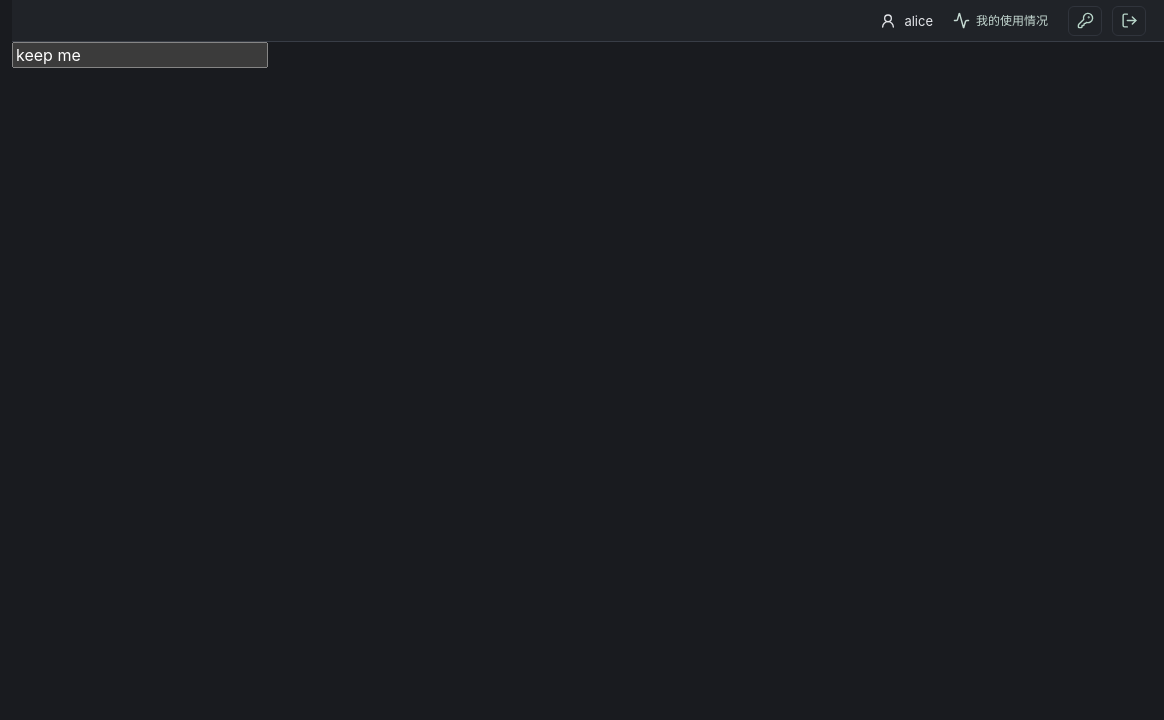
Test case: personal usage entry and isolation › lets a normal user read only their own usage without requesting admin or RAG data
The image size is (1164, 720).
Click the button "我的使用情况".
click(1000, 20)  # box [943, 6, 1058, 36]
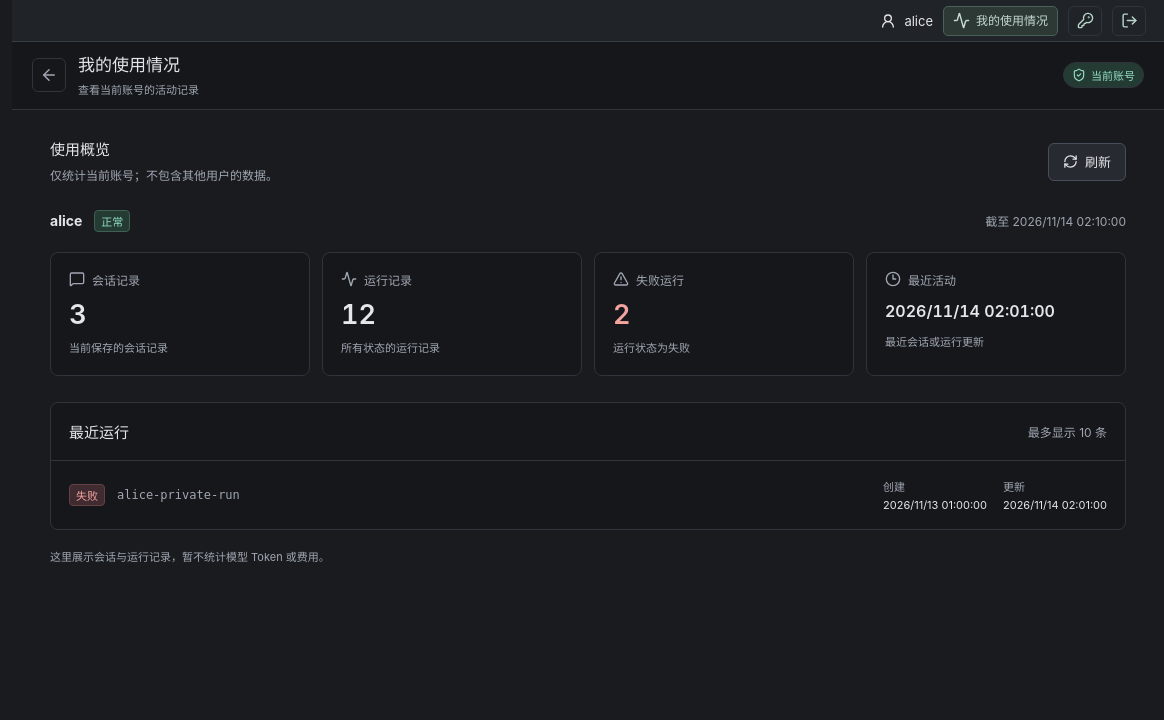
expect the text "alice-private-run" is shown: met, box [117, 488, 240, 502]
Click the button named "返回对话".
click(49, 75)  # box [32, 58, 66, 92]
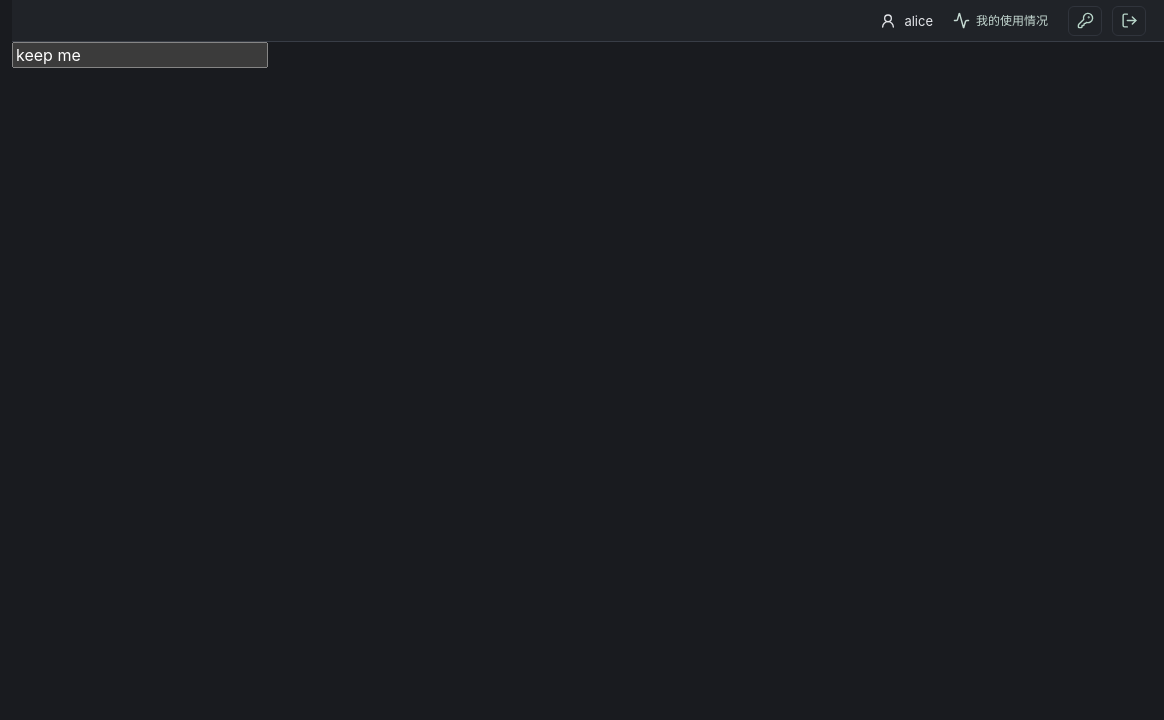
expect the field named "chat draft" holds "keep me": met, box [12, 42, 268, 68]
